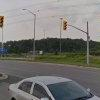Traffic light: (58, 15, 73, 34)
